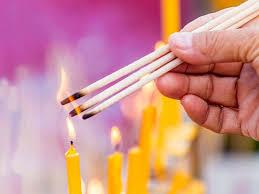controlled_fire: (39, 56, 131, 160)
